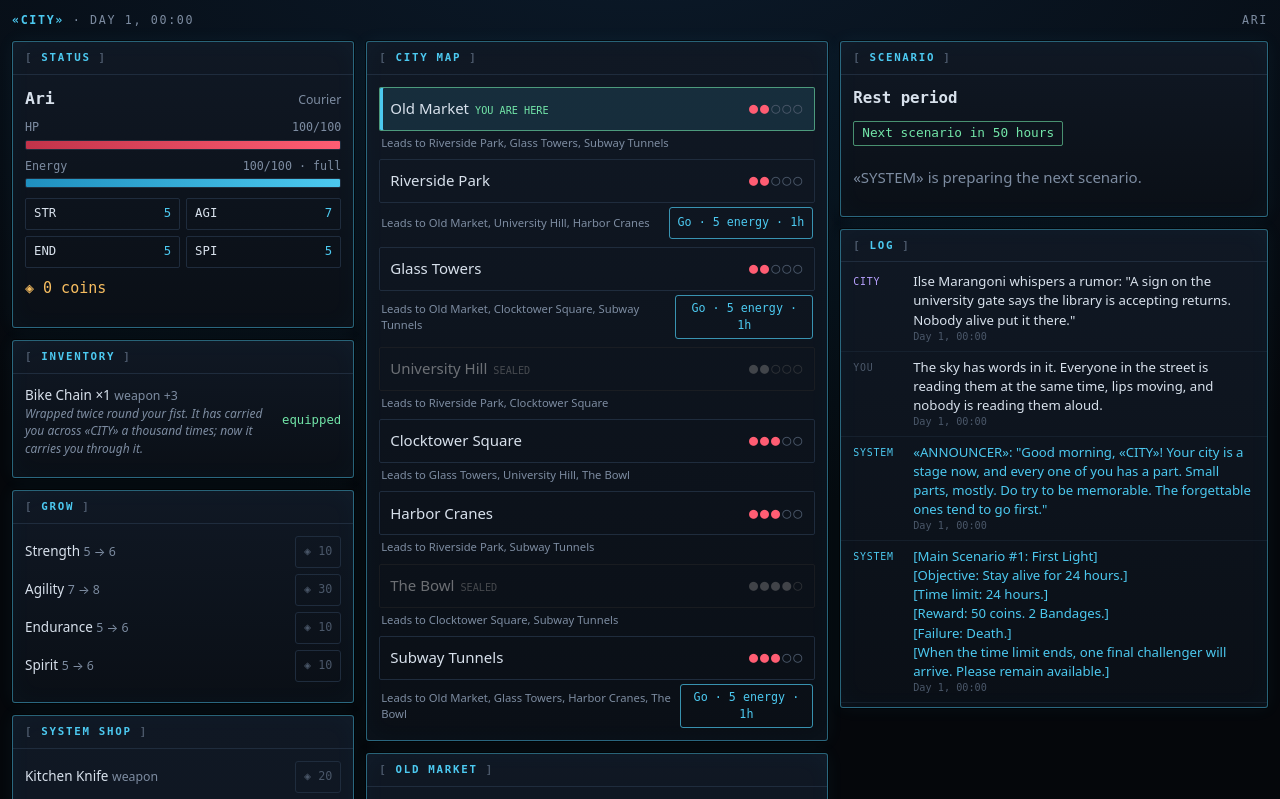
it: after travelling, the zone panel shows the zone you arrived in
The width and height of the screenshot is (1280, 799).
Click the button with aria-label "travel to riverside park" at (741, 223), box left=668, top=207, right=813, bottom=239
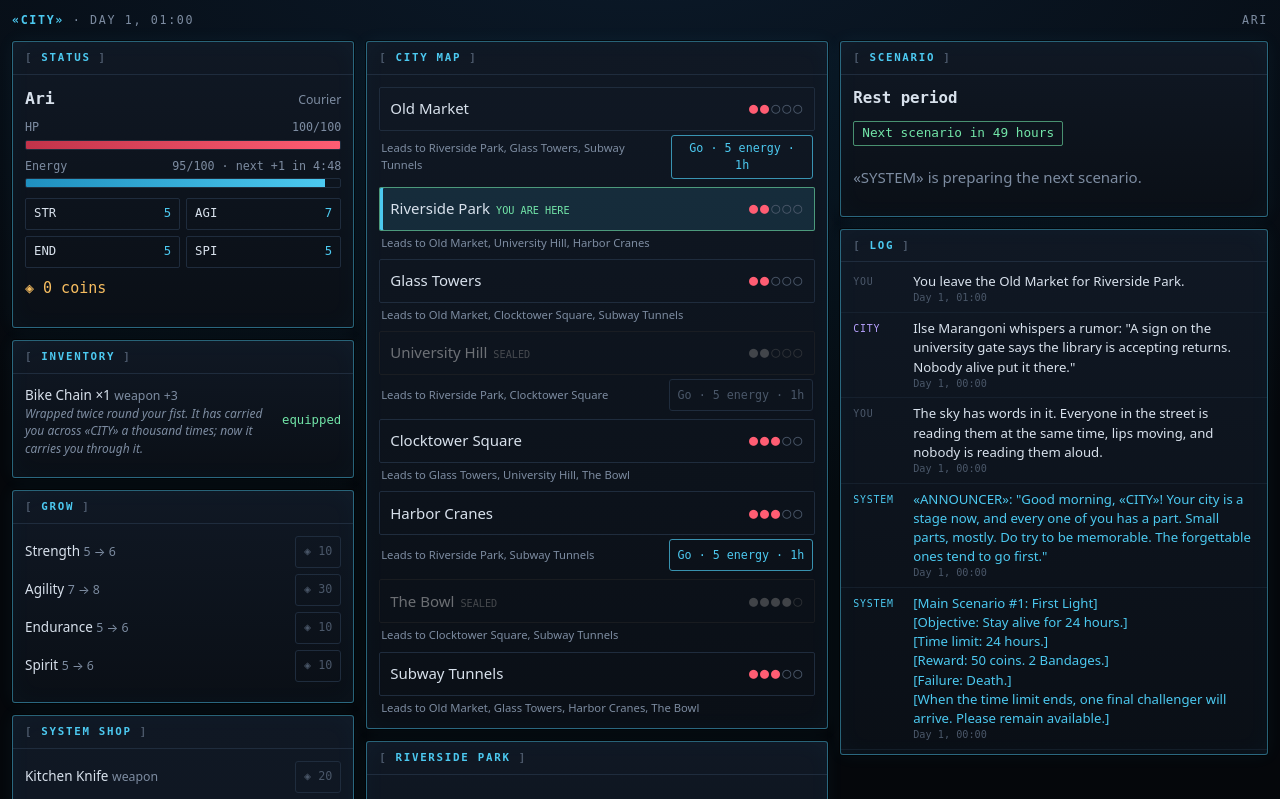
Check: the heading "Riverside Park" is shown, box left=367, top=742, right=827, bottom=775
